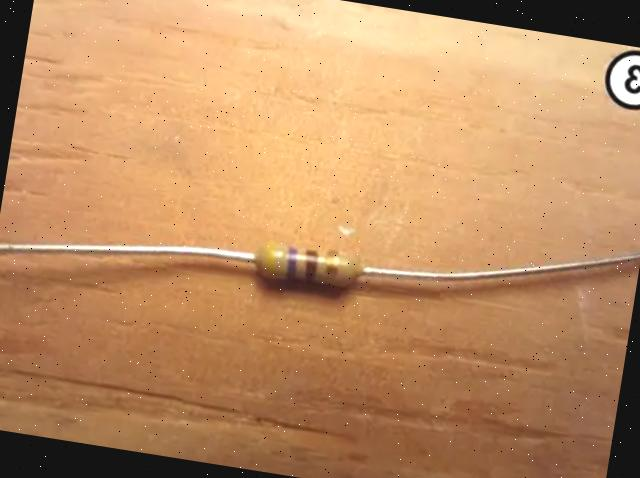brown: (303, 250, 319, 285)
gold: (323, 251, 341, 286)
resistor: (249, 230, 366, 300)
violet: (286, 248, 298, 279)
yellow: (267, 242, 277, 279)
